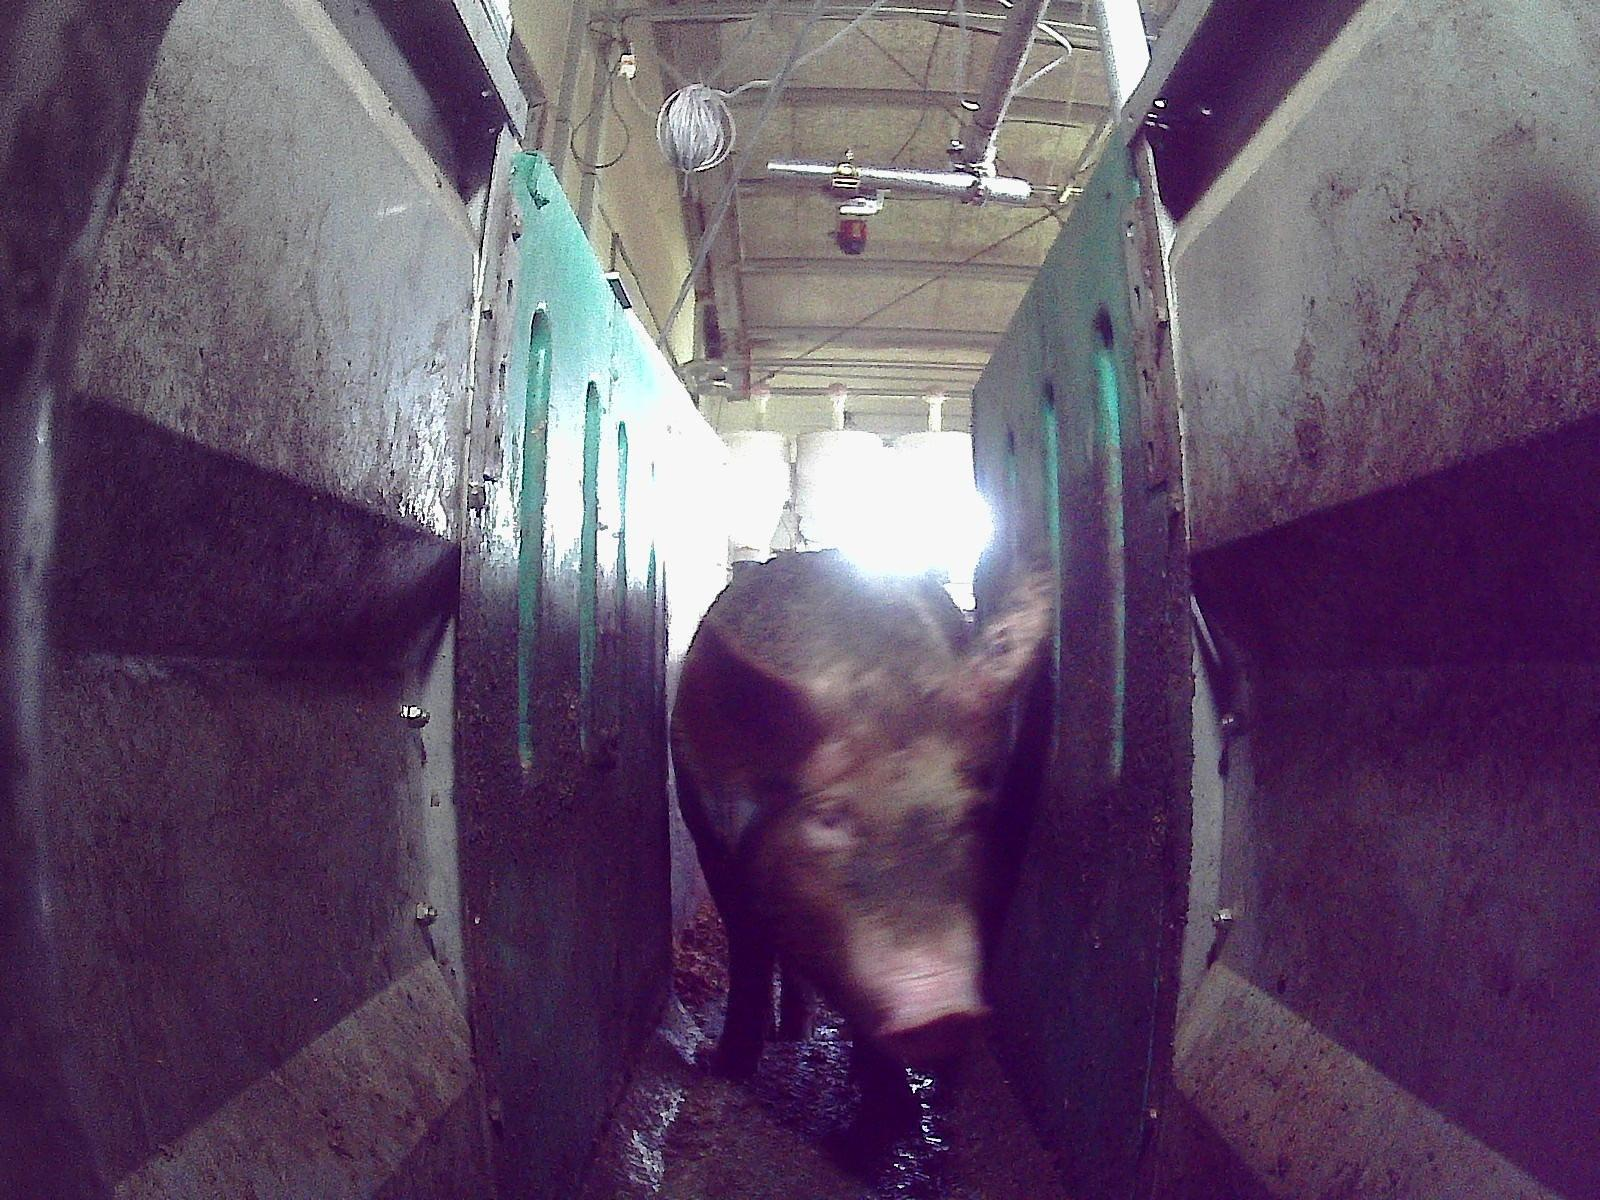Face: (770, 688, 991, 1060)
